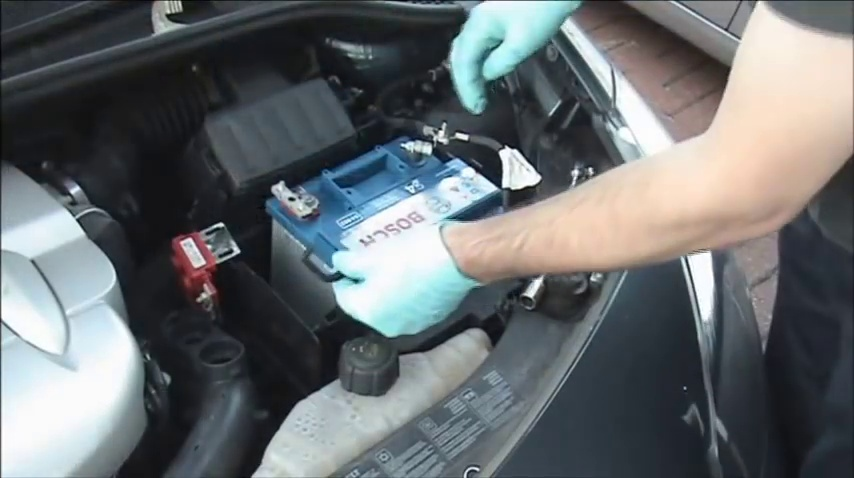battery: (261, 129, 518, 270)
pos_disconnected: (164, 169, 327, 295)
